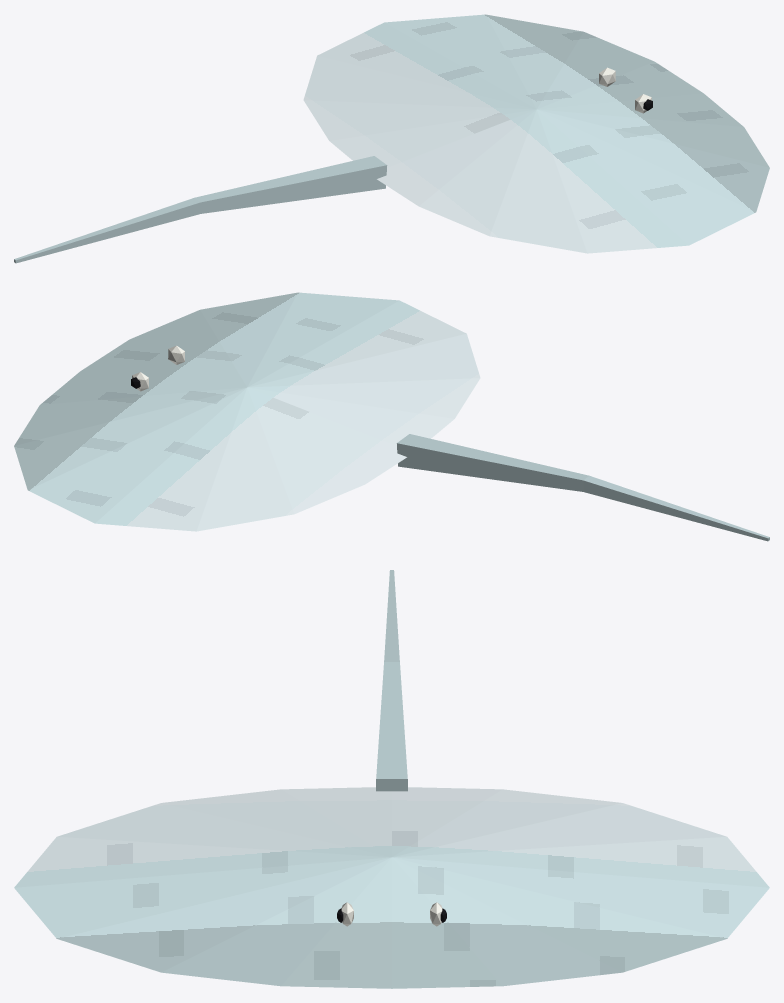
File: the_glass_ray.glb
3 views of the same model, one above another, from view 1: azimuth 30°, elevation 25°; view 2: azimuth 150°, elevation 25°; view 3: azimuth 270°, elevation 25° (orthographic). The views are drawn at different scales.
Parts seen in each view (by area): view 1: fish_the_glass_ray; view 2: fish_the_glass_ray; view 3: fish_the_glass_ray.
Part boxes in pixels (box(x1,y1,x2,y2)): fish_the_glass_ray: box(14, 14, 769, 263); fish_the_glass_ray: box(14, 292, 769, 541); fish_the_glass_ray: box(14, 570, 769, 988).
Size of the model in its own units: 1.32 by 0.0792 by 1.01.
Materials: 4 (1 with a texture image).
